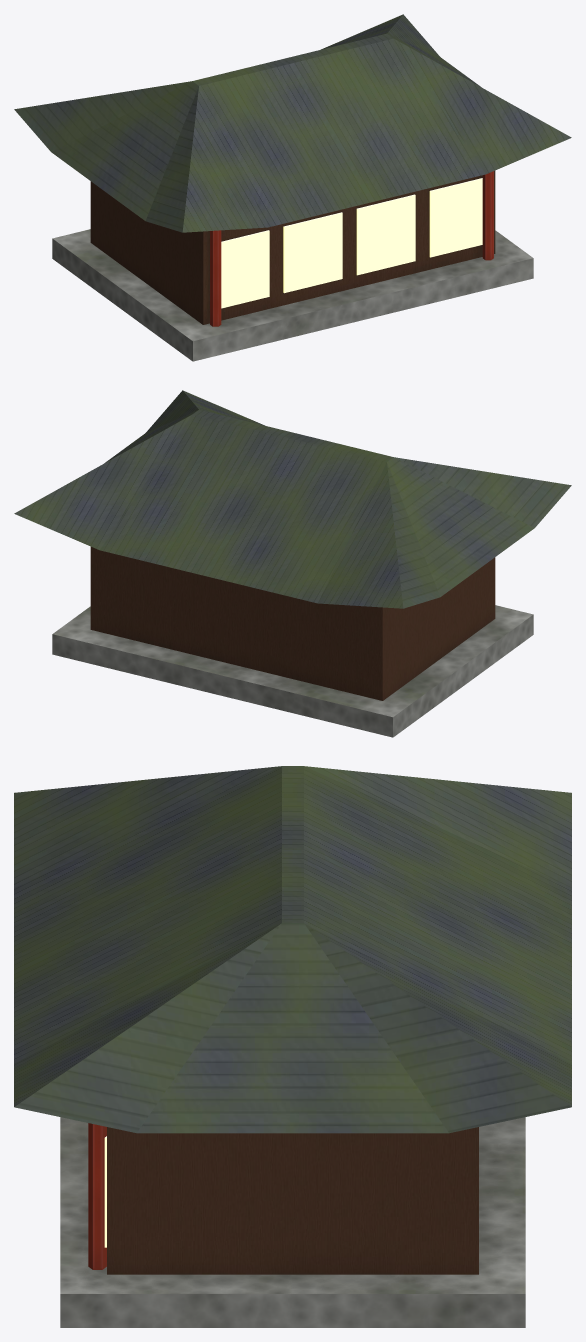
Rendered from dojo_tex.glb.
The picture shows the model from 3 angles, top to bottom: view 1: azimuth 30°, elevation 25°; view 2: azimuth 150°, elevation 25°; view 3: azimuth 270°, elevation 25°; orthographic projection. The views are drawn at different scales.
Parts seen in each view (by area): view 1: dojo; view 2: dojo; view 3: dojo.
Boxes of the visible parts, x1,y1,x2,y2 form: dojo: [14, 14, 571, 361]; dojo: [14, 390, 571, 737]; dojo: [14, 766, 571, 1327].
Size of the model in its own units: 16 by 8.2 by 12.
Materials: 6 (5 with a texture image).
